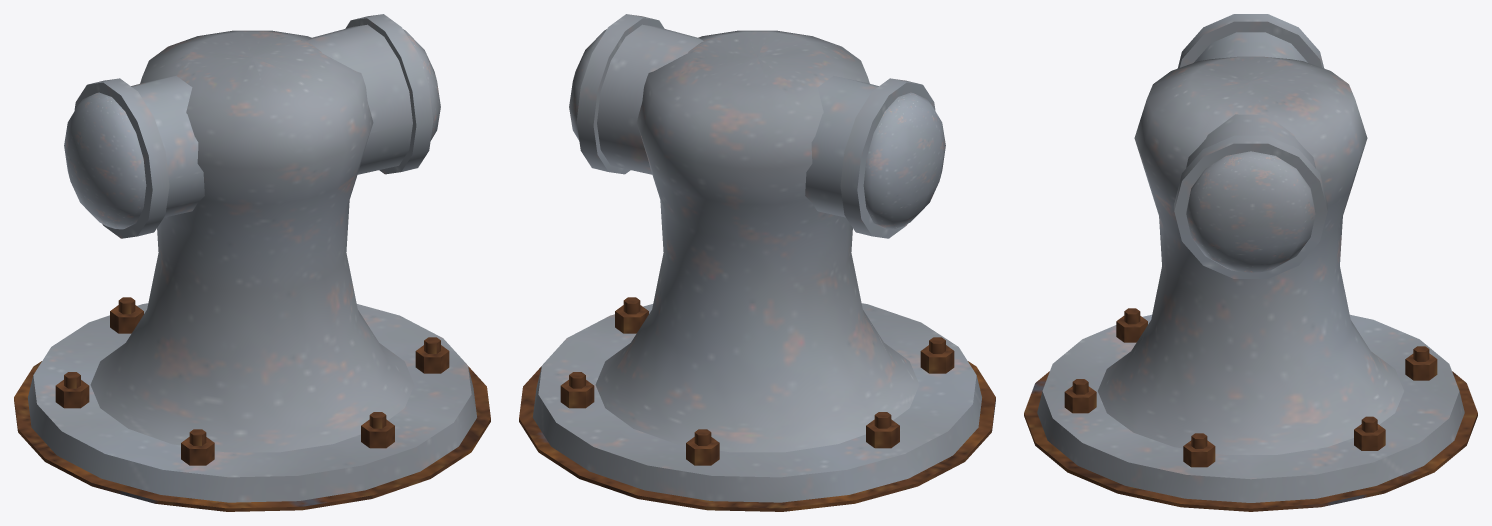
The model's file is bollard_mooring.glb.
3 renders of one model, left to right at view 1: azimuth 30°, elevation 25°; view 2: azimuth 150°, elevation 25°; view 3: azimuth 270°, elevation 25°, orthographic. The views are drawn at different scales.
Visible parts, largest first — view 1: bollard_mooring; view 2: bollard_mooring; view 3: bollard_mooring.
Boxes of the visible parts, x1,y1,x2,y2 form: bollard_mooring: (14,14,490,511); bollard_mooring: (519,14,995,511); bollard_mooring: (1024,14,1477,511).
Size of the model in its own units: 0.74 by 0.6069 by 0.74.
Materials: 2 (2 with a texture image).
